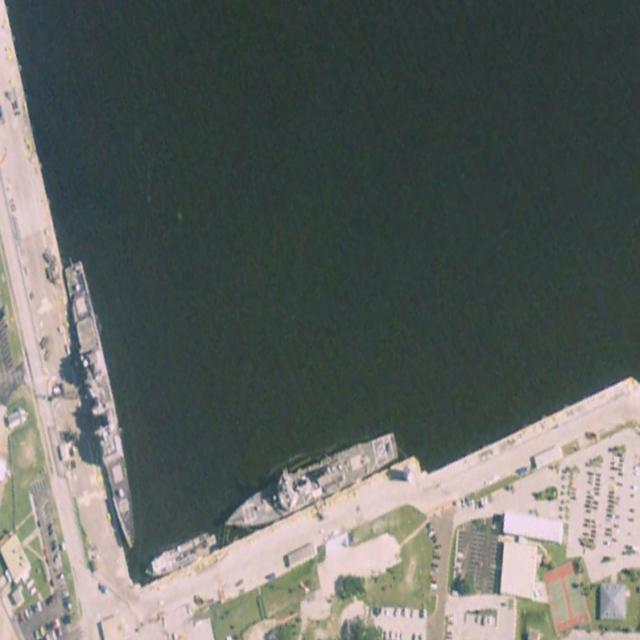Cruiser: (57, 258, 144, 553)
Destroyer: (221, 422, 400, 544)
